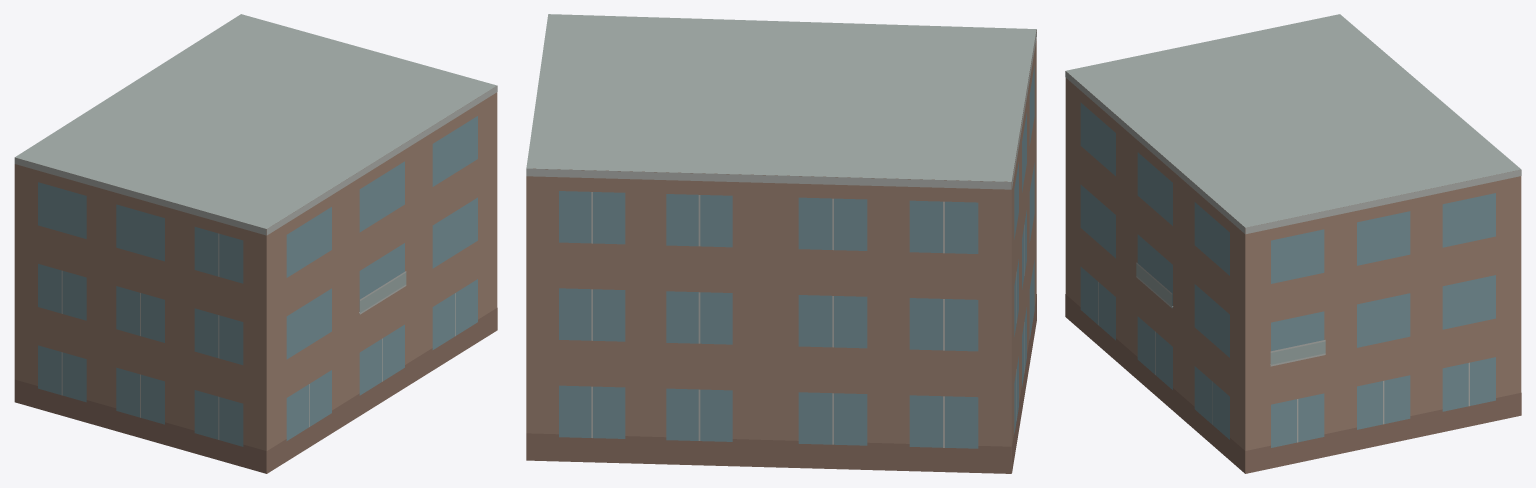
File: survey-upis-32701395.glb
3 views of the same model, side by side, from view 1: azimuth 30°, elevation 25°; view 2: azimuth 150°, elevation 25°; view 3: azimuth 270°, elevation 25° (orthographic). The views are drawn at different scales.
Parts seen in each view (by area): view 1: survey-upis-32701395.tmp; view 2: survey-upis-32701395.tmp; view 3: survey-upis-32701395.tmp.
Part boxes in pixels (x1,y1,x2,y2): survey-upis-32701395.tmp: (14,14,497,473); survey-upis-32701395.tmp: (526,14,1036,473); survey-upis-32701395.tmp: (1065,14,1521,473).
Bounding box in the file's own units: 17.05 × 9.15 × 15.37.
